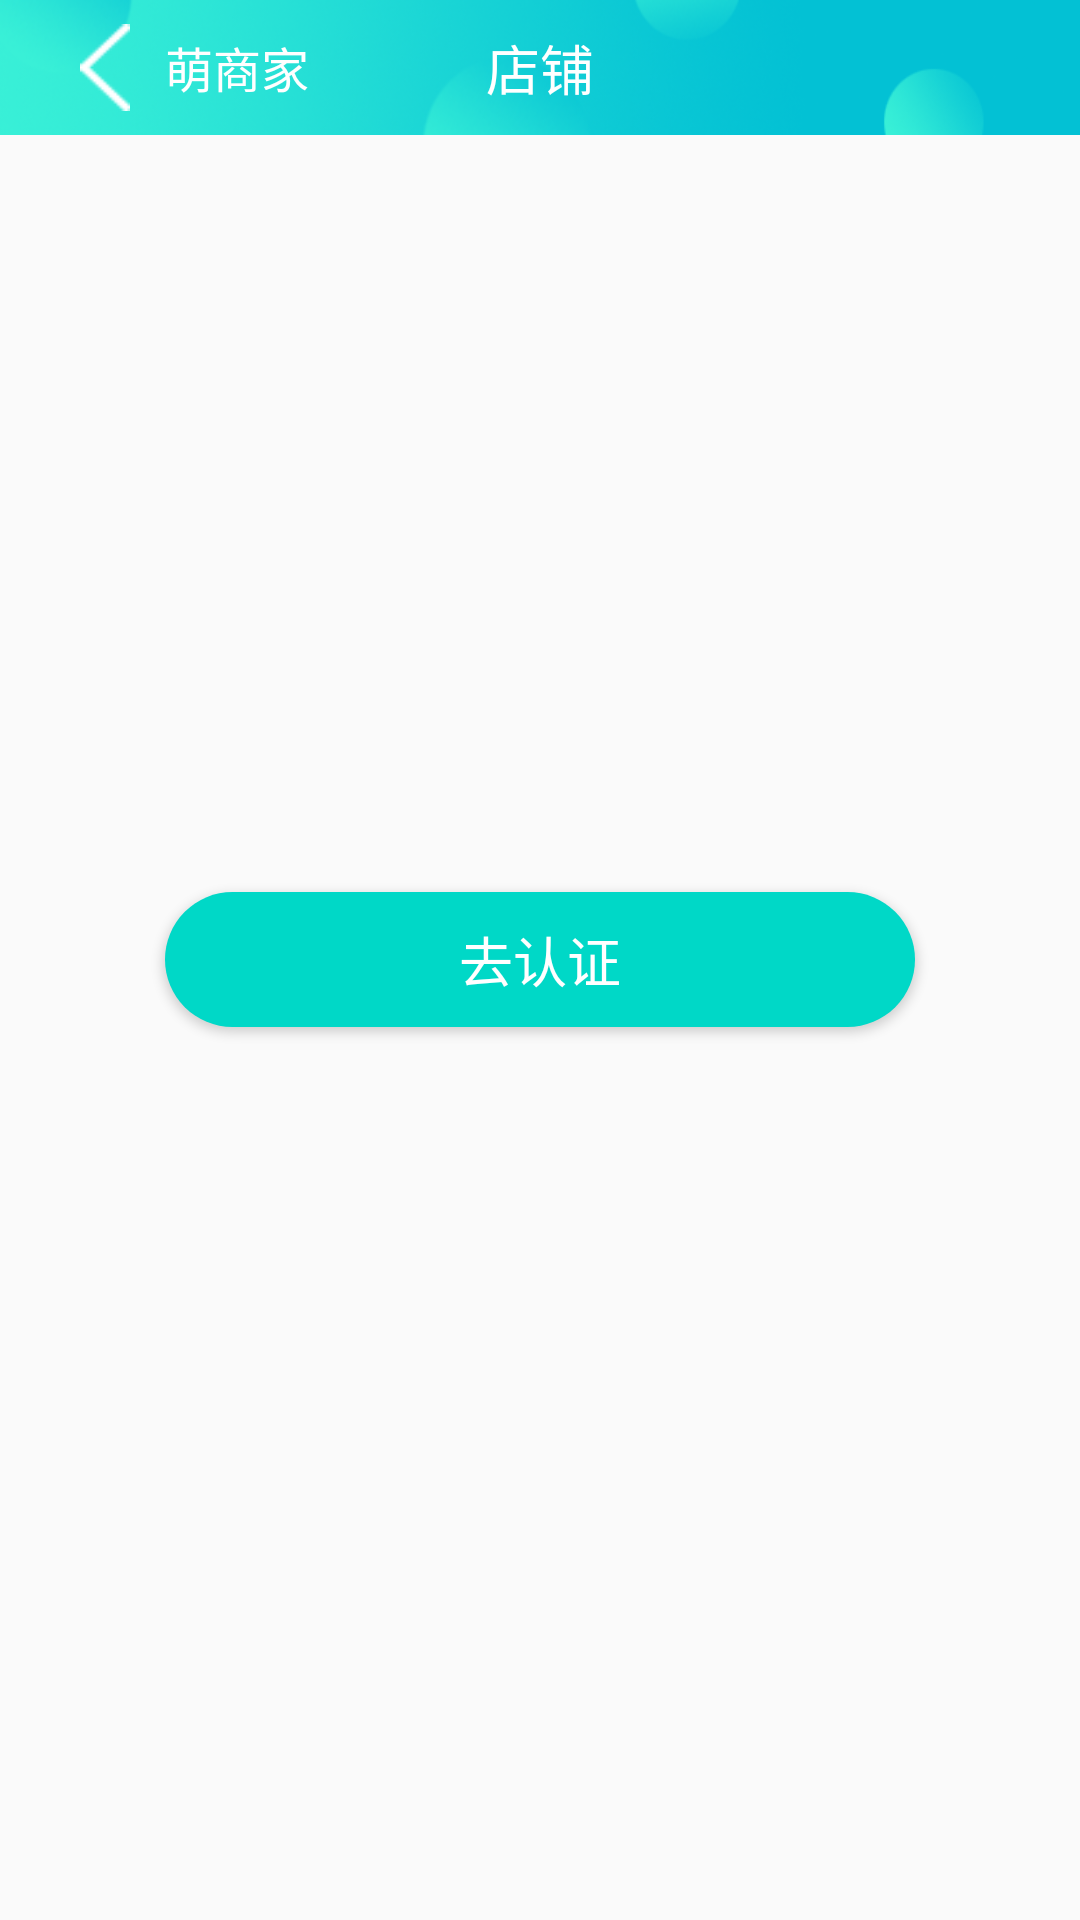

Icon bounding boxes for this 1080px×1920px phone screenshot, format (x1, y1, x2, y2):
return arraw: (80, 0, 130, 111)
